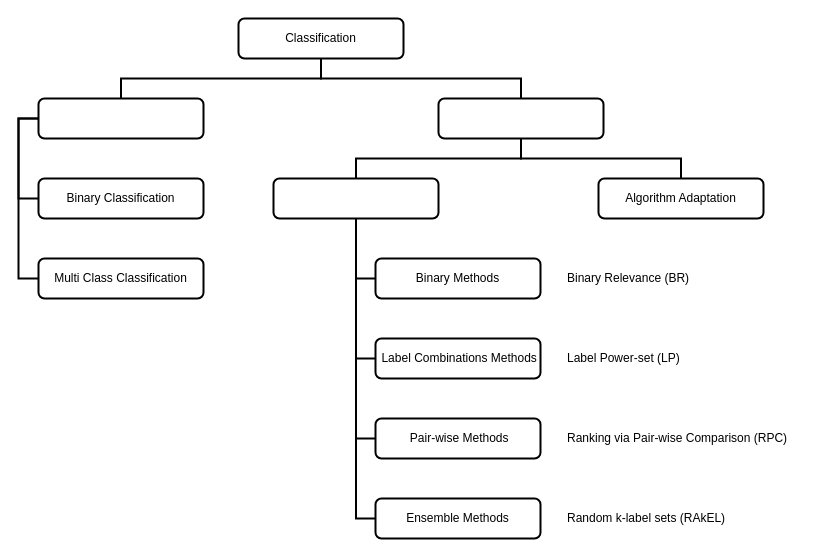
Some shapes in this 822 by 556 pixel diagram are drawn without their labels. Here are the shapes that lost their labels. From the top down, the box of each, then its label:
(37, 97, 204, 139): Single-label Classification
(437, 97, 604, 139): Multi-label Classification
(272, 177, 439, 219): Transformation Methods
